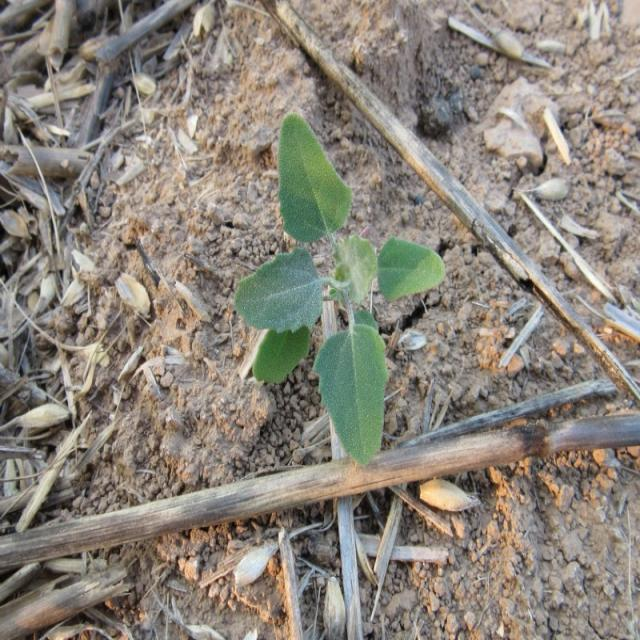ca: (246, 116, 439, 458)
